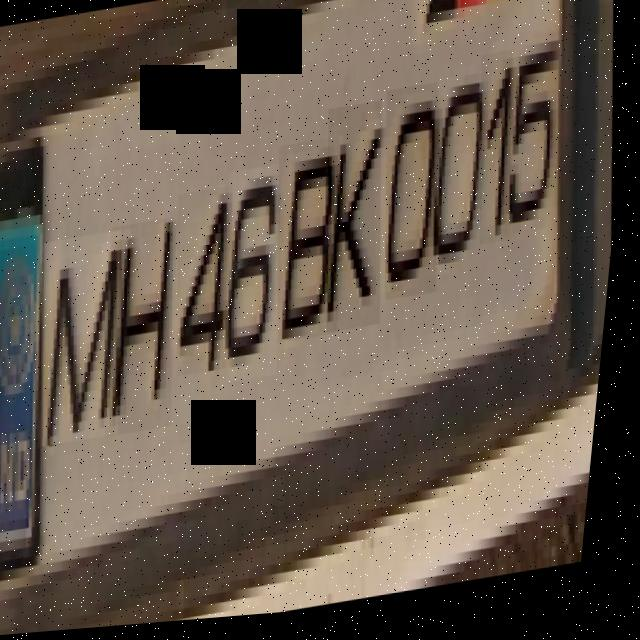0: (416, 53, 505, 297), (373, 88, 460, 307)
1: (468, 57, 531, 254)
4: (168, 188, 252, 381)
5: (498, 33, 582, 244)
6: (216, 167, 300, 389)
B: (267, 141, 360, 349)
H: (101, 219, 195, 439)
K: (314, 105, 404, 340)
M: (34, 231, 144, 449)
